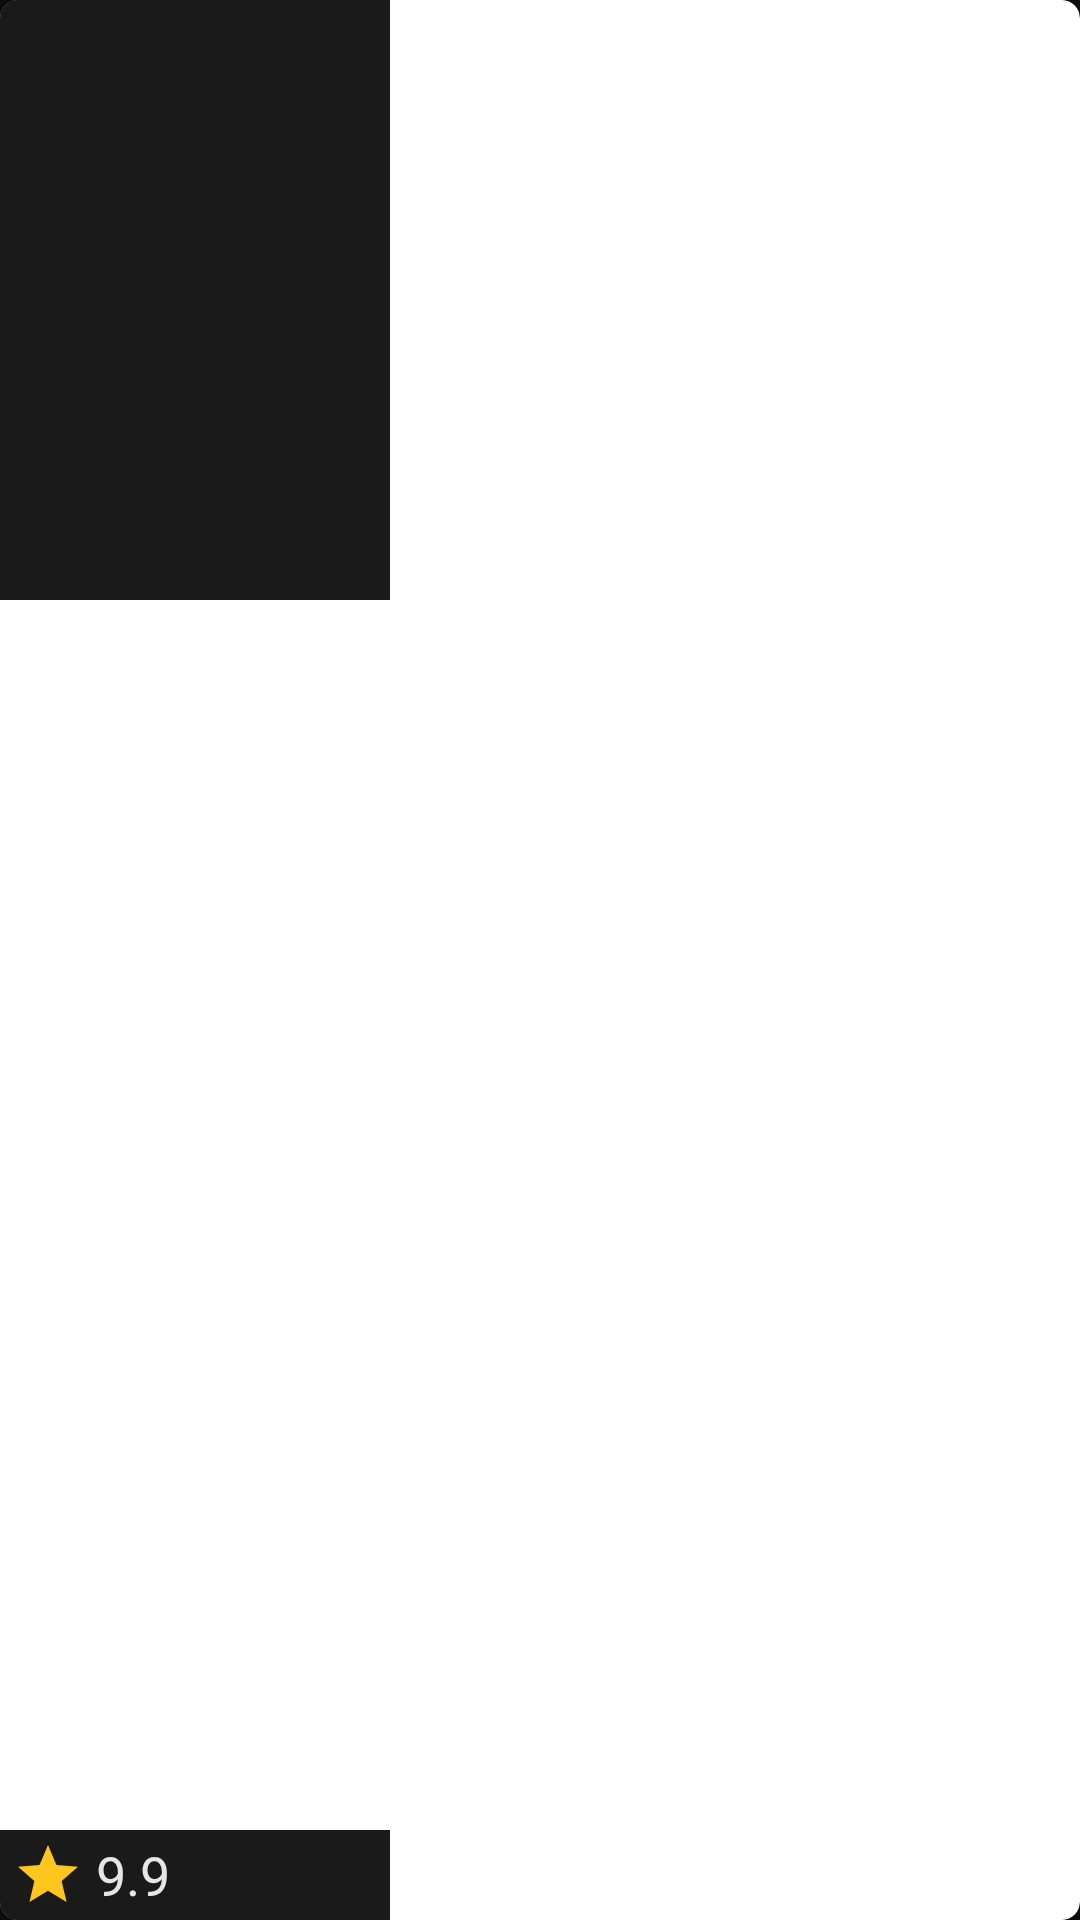

Icons on this 1080*1920 Android screen, each with the point to tap as (x=x, y=y):
star: (x=48, y=1873)
